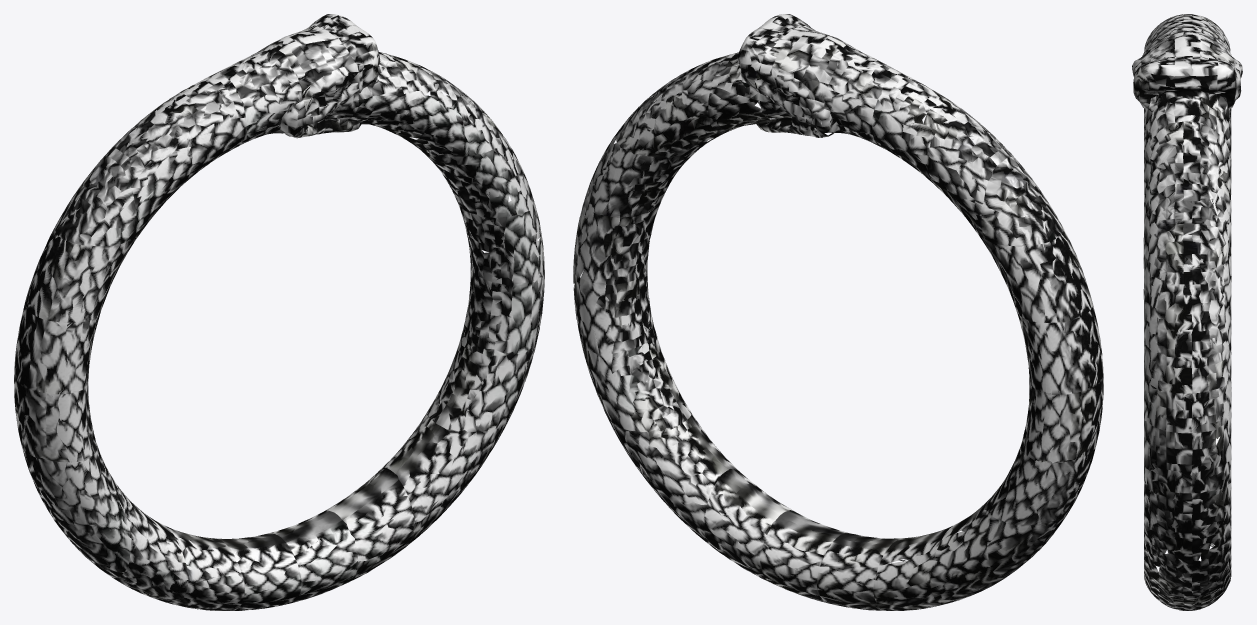
Rendered from yilan_bilezik.glb.
3 views of the same model, side by side, from view 1: azimuth 30°, elevation 25°; view 2: azimuth 150°, elevation 25°; view 3: azimuth 270°, elevation 25° (orthographic).
Parts seen in each view (by area): view 1: yilan_bilezik; view 2: yilan_bilezik; view 3: yilan_bilezik.
Part boxes in pixels (<box>): yilan_bilezik: <box>14,14,544,610</box>; yilan_bilezik: <box>573,14,1103,610</box>; yilan_bilezik: <box>1132,14,1242,610</box>.
Size of the model in its own units: 1.88 by 1.94 by 0.3504.
1 material, 1 textured.
